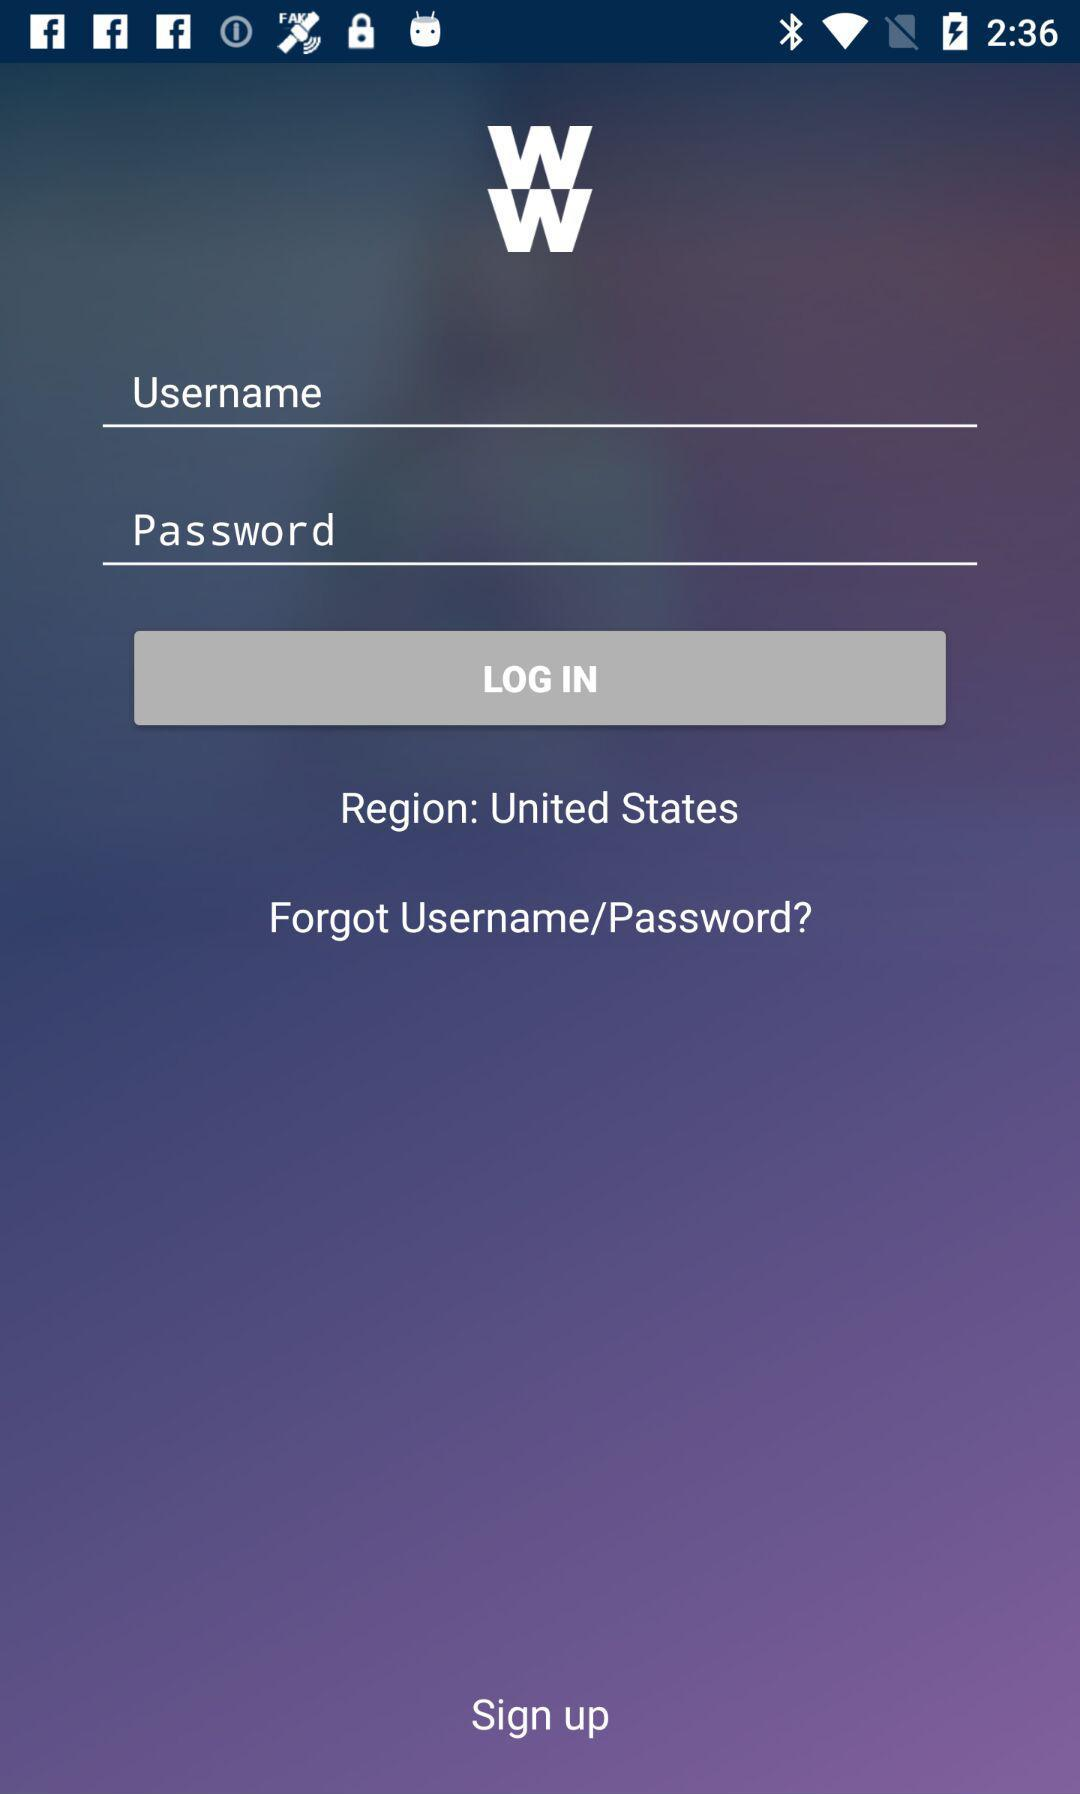EditText: (102, 513, 978, 568), (102, 375, 978, 431)
Image: (486, 126, 594, 254)
Text: (270, 900, 814, 943), (342, 791, 739, 834), (135, 513, 334, 548), (135, 375, 323, 410), (471, 1697, 610, 1740)
TextButton: (135, 630, 947, 727)
UpperTaskBar: (1, 1, 1080, 64)
